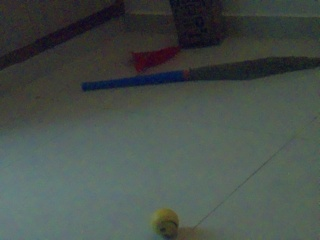ball: (151, 208, 178, 238)
